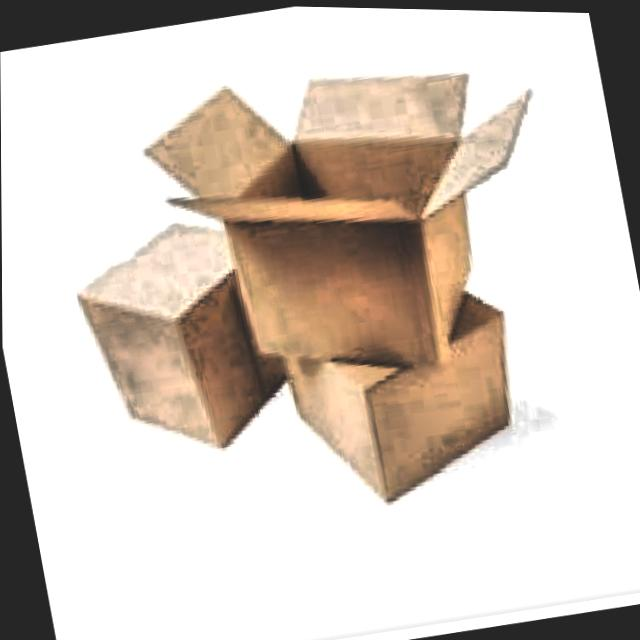Cardbox: (113, 21, 581, 427), (227, 221, 555, 537), (66, 208, 292, 468)
